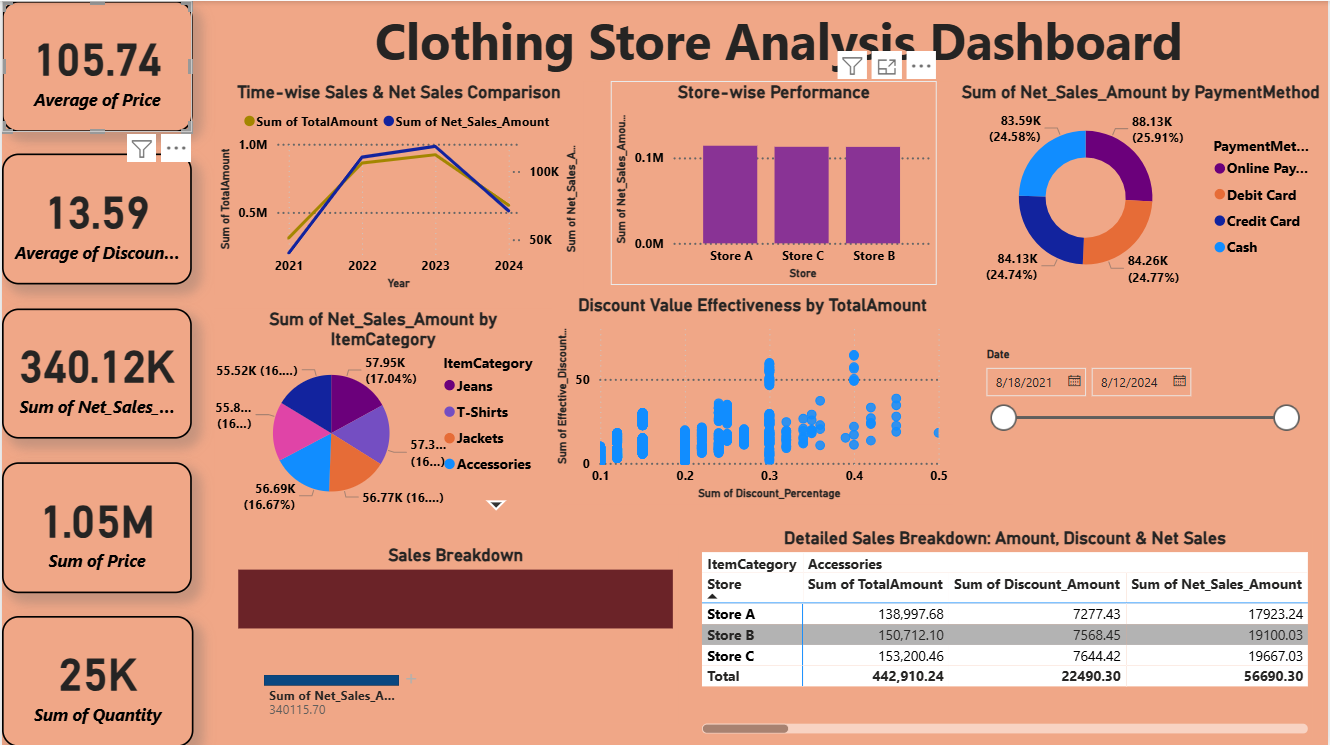

This screenshot's page, from the dashboard's own definition file:
{"tool":"powerbi","page":{"name":"Page 1","canvas":[1280,720],"ordinal":0},"visuals":[{"type":"textbox","box":[190.6,0,1089.4,77.2],"z":0},{"type":"card","fields":{"Values":["Avg(ABC_Clothing_Store_Sales_Data (2).Price)"]},"box":[0,0,183.9,126.2],"z":1000},{"type":"card","fields":{"Values":["Avg(ABC_Clothing_Store_Sales_Data (2).Discount_Amount)"]},"box":[0,147.2,183.4,126.7],"z":2000},{"type":"card","fields":{"Values":["Sum(ABC_Clothing_Store_Sales_Data (2).Net_Sales_Amount)"]},"box":[0,296.8,183.4,125.5],"z":3000},{"type":"card","fields":{"Values":["Sum(ABC_Clothing_Store_Sales_Data (2).Price)"]},"box":[0,445.2,183.4,126.7],"z":4000},{"type":"card","fields":{"Values":["Sum(ABC_Clothing_Store_Sales_Data (2).Quantity)"]},"box":[0,593.6,184.6,126.7],"z":5000},{"type":"lineChart","title":"Time-wise Sales & Net Sales Comparison","fields":{"Category":["ABC_Clothing_Store_Sales_Data (2).Date.Variation.Date Hierarchy.Year","ABC_Clothing_Store_Sales_Data (2).Date.Variation.Date Hierarchy.Quarter","ABC_Clothing_Store_Sales_Data (2).Date.Variation.Date Hierarchy.Month","ABC_Clothing_Store_Sales_Data (2).Date.Variation.Date Hierarchy.Day"],"Y":["Sum(ABC_Clothing_Store_Sales_Data (2).TotalAmount)"],"Y2":["Sum(ABC_Clothing_Store_Sales_Data (2).Net_Sales_Amount)"]},"box":[205.1,77.2,355.9,206.3],"z":6000},{"type":"columnChart","title":"Store-wise Performance","fields":{"Category":["ABC_Clothing_Store_Sales_Data (2).Store"],"Y":["Sum(ABC_Clothing_Store_Sales_Data (2).Net_Sales_Amount)"]},"box":[587.5,77.2,314.9,196.6],"z":7000},{"type":"pieChart","fields":{"Category":["ABC_Clothing_Store_Sales_Data (2).ItemCategory"],"Y":["Sum(ABC_Clothing_Store_Sales_Data (2).Net_Sales_Amount)"]},"box":[205.1,296.8,325.7,202.7],"z":8000},{"type":"donutChart","fields":{"Category":["ABC_Clothing_Store_Sales_Data (2).PaymentMethod"],"Y":["Sum(ABC_Clothing_Store_Sales_Data (2).Net_Sales_Amount)"]},"box":[918.1,77.2,361.9,206.3],"z":9000},{"type":"scatterChart","title":"Discount Value Effectiveness by TotalAmount","fields":{"Category":["ABC_Clothing_Store_Sales_Data (2).TotalAmount"],"X":["Sum(ABC_Clothing_Store_Sales_Data (2).Discount_Percentage)"],"Y":["Sum(ABC_Clothing_Store_Sales_Data (2).Effective_Discount_Per_Item)"]},"box":[530.8,283.5,387.3,202.7],"z":10000},{"type":"slicer","fields":{"Values":["ABC_Clothing_Store_Sales_Data (2).Date"]},"box":[937.4,329.4,323.3,111],"z":11000},{"type":"pivotTable","title":"Detailed Sales Breakdown: Amount, Discount & Net Sales","fields":{"Values":["Sum(ABC_Clothing_Store_Sales_Data (2).TotalAmount)","Sum(ABC_Clothing_Store_Sales_Data (2).Discount_Amount)","Sum(ABC_Clothing_Store_Sales_Data (2).Net_Sales_Amount)"],"Rows":["ABC_Clothing_Store_Sales_Data (2).Store"],"Columns":["ABC_Clothing_Store_Sales_Data (2).ItemCategory"]},"box":[670.8,507.9,594.8,203.9],"z":12000},{"type":"decompositionTreeVisual","title":"Sales Breakdown","fields":{"Analyze":["Sum(ABC_Clothing_Store_Sales_Data (2).Net_Sales_Amount)"],"ExplainBy":["ABC_Clothing_Store_Sales_Data (2).Store","ABC_Clothing_Store_Sales_Data (2).ItemCategory","ABC_Clothing_Store_Sales_Data (2).Date.Variation.Date Hierarchy.Year","ABC_Clothing_Store_Sales_Data (2).Date.Variation.Date Hierarchy.Quarter","ABC_Clothing_Store_Sales_Data (2).Date.Variation.Date Hierarchy.Month","ABC_Clothing_Store_Sales_Data (2).Date.Variation.Date Hierarchy.Day","ABC_Clothing_Store_Sales_Data (2).PaymentMethod"]},"box":[223.2,524.8,429.5,172.5],"z":13000}]}

Visuals, with their boxes in screenshot pixels (x1, y1, x2, y2), scaled from the page's 1280x720 canvas onto the 1330x745 screenshot:
textbox: l=198, t=0, r=1329, b=80
card - Avg(ABC_Clothing_Store_Sales_Data (2).Price): l=0, t=0, r=191, b=131
card - Avg(ABC_Clothing_Store_Sales_Data (2).Discount_Amount): l=0, t=152, r=191, b=283
card - Sum(ABC_Clothing_Store_Sales_Data (2).Net_Sales_Amount): l=0, t=307, r=191, b=437
card - Sum(ABC_Clothing_Store_Sales_Data (2).Price): l=0, t=461, r=191, b=592
card - Sum(ABC_Clothing_Store_Sales_Data (2).Quantity): l=0, t=614, r=192, b=744
"Time-wise Sales & Net Sales Comparison" lineChart: l=213, t=80, r=583, b=293
"Store-wise Performance" columnChart: l=610, t=80, r=938, b=283
pieChart - ABC_Clothing_Store_Sales_Data (2).ItemCategory x Sum(ABC_Clothing_Store_Sales_Data (2).Net_Sales_Amount): l=213, t=307, r=552, b=517
donutChart - ABC_Clothing_Store_Sales_Data (2).PaymentMethod x Sum(ABC_Clothing_Store_Sales_Data (2).Net_Sales_Amount): l=954, t=80, r=1329, b=293
"Discount Value Effectiveness by TotalAmount" scatterChart: l=552, t=293, r=954, b=503
slicer - ABC_Clothing_Store_Sales_Data (2).Date: l=974, t=341, r=1310, b=456
"Detailed Sales Breakdown: Amount, Discount & Net Sales" pivotTable: l=697, t=526, r=1315, b=737
"Sales Breakdown" decompositionTreeVisual: l=232, t=543, r=678, b=722
